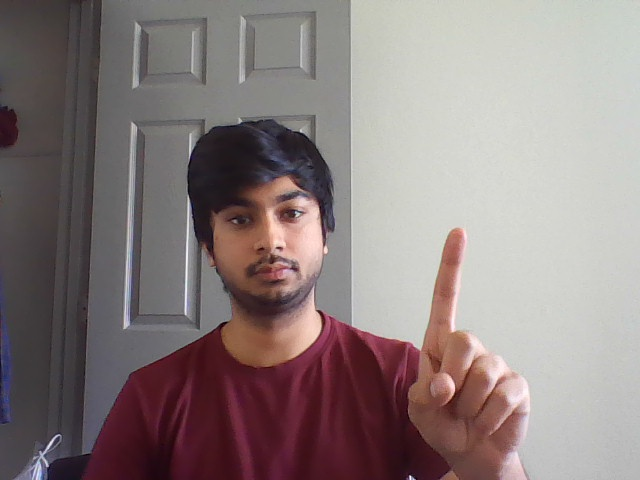one: (405, 219, 523, 426)
